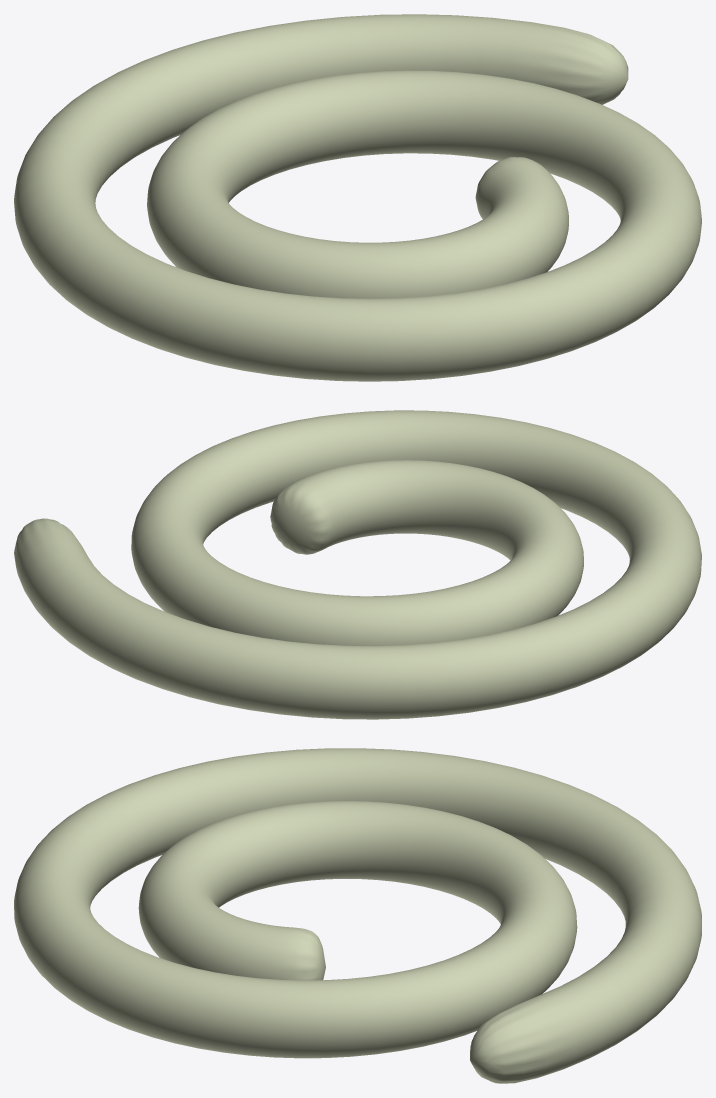
File: Spiral.dae
The picture shows the model from 3 angles, top to bottom: view 1: azimuth 30°, elevation 25°; view 2: azimuth 150°, elevation 25°; view 3: azimuth 270°, elevation 25°; orthographic projection. The views are drawn at different scales.
Parts seen in each view (by area): view 1: spiral5-0; view 2: spiral5-0; view 3: spiral5-0.
Part boxes in pixels (x1,y1,x2,y2): spiral5-0: (14,14,701,381); spiral5-0: (14,410,701,719); spiral5-0: (14,748,701,1083).
Bounding box in the file's own units: 4.33 × 0.4881 × 4.29.
